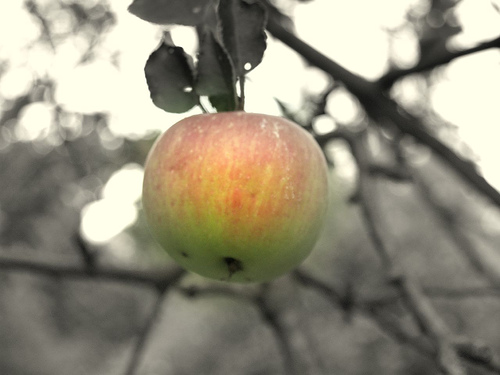apple: (142, 111, 332, 282)
